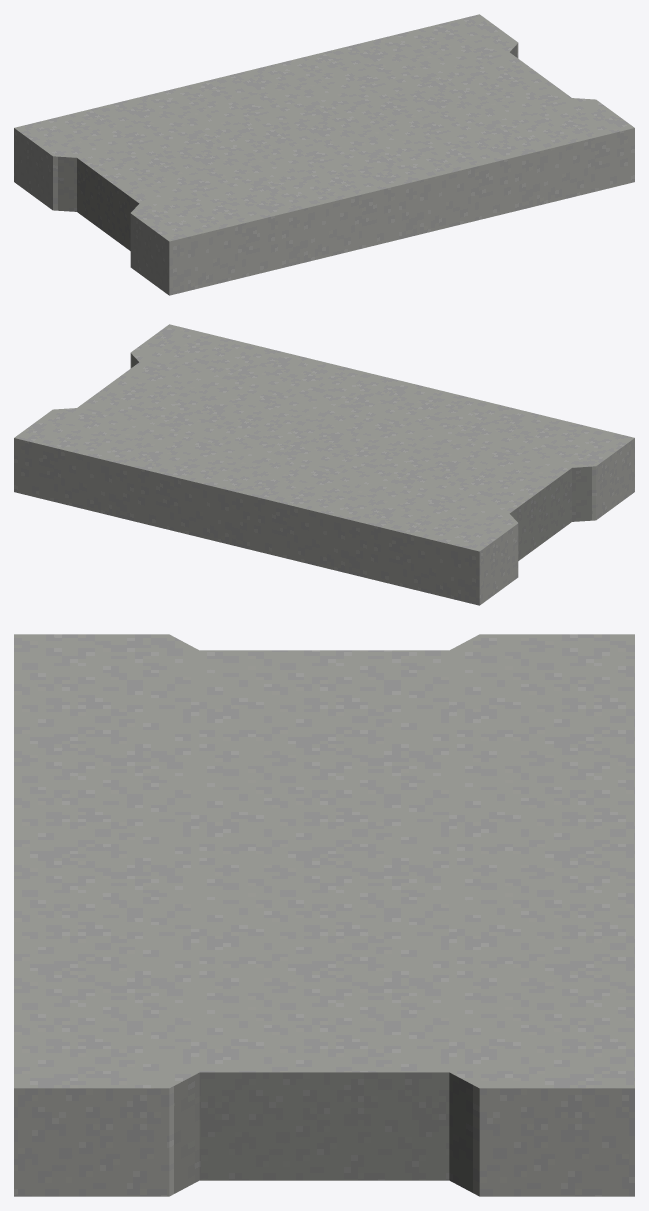
Rendered from 00a7_Concrete_Cover.glb.
The picture shows the model from 3 angles, top to bottom: view 1: azimuth 30°, elevation 25°; view 2: azimuth 150°, elevation 25°; view 3: azimuth 270°, elevation 25°; orthographic projection. The views are drawn at different scales.
Visible parts, largest first — view 1: part_0; view 2: part_0; view 3: part_0.
Boxes of the visible parts, box(x1,y1,x2,y2) form: part_0: box(14, 14, 634, 295); part_0: box(14, 324, 634, 605); part_0: box(14, 634, 634, 1196).
Size of the model in its own units: 0.45 by 0.05 by 0.26.
Materials: 1 (1 with a texture image).
